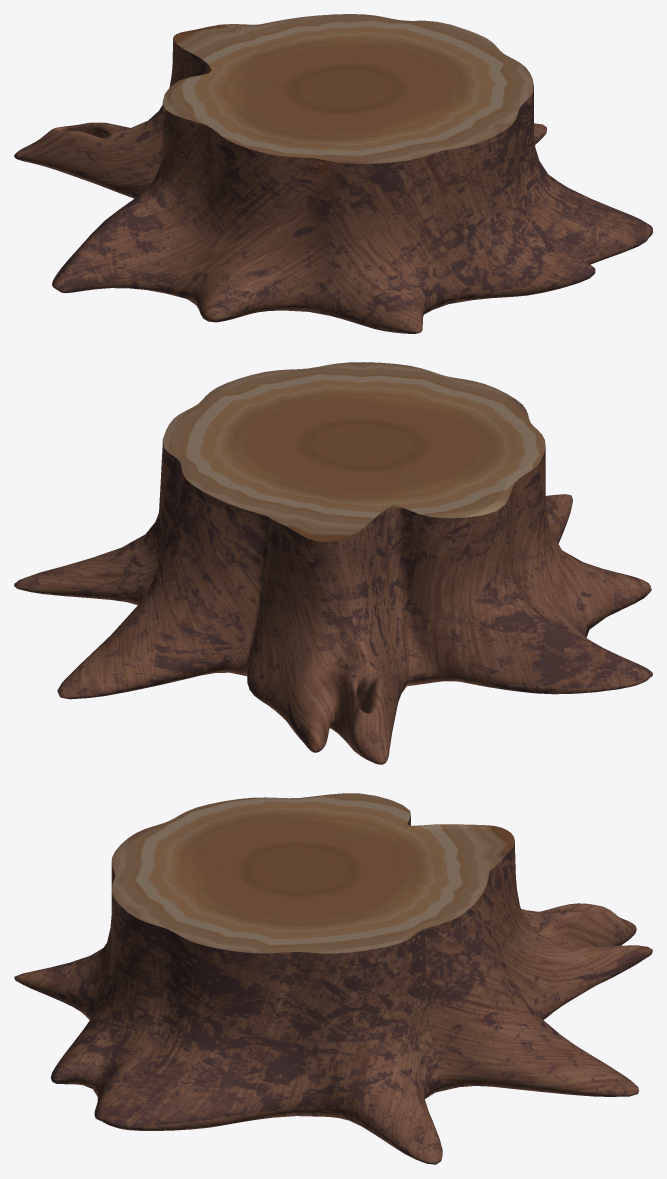
The model's file is stump.fbx.
3 renders of one model, top to bottom at view 1: azimuth 30°, elevation 25°; view 2: azimuth 150°, elevation 25°; view 3: azimuth 270°, elevation 25°, orthographic. The views are drawn at different scales.
Parts seen in each view (by area): view 1: pCylinder1; view 2: pCylinder1; view 3: pCylinder1.
Boxes of the visible parts, x1,y1,x2,y2 form: pCylinder1: (14,14,652,333); pCylinder1: (14,362,652,764); pCylinder1: (14,793,652,1164).
Bounding box in the file's own units: 31.39 × 8.68 × 30.11.
